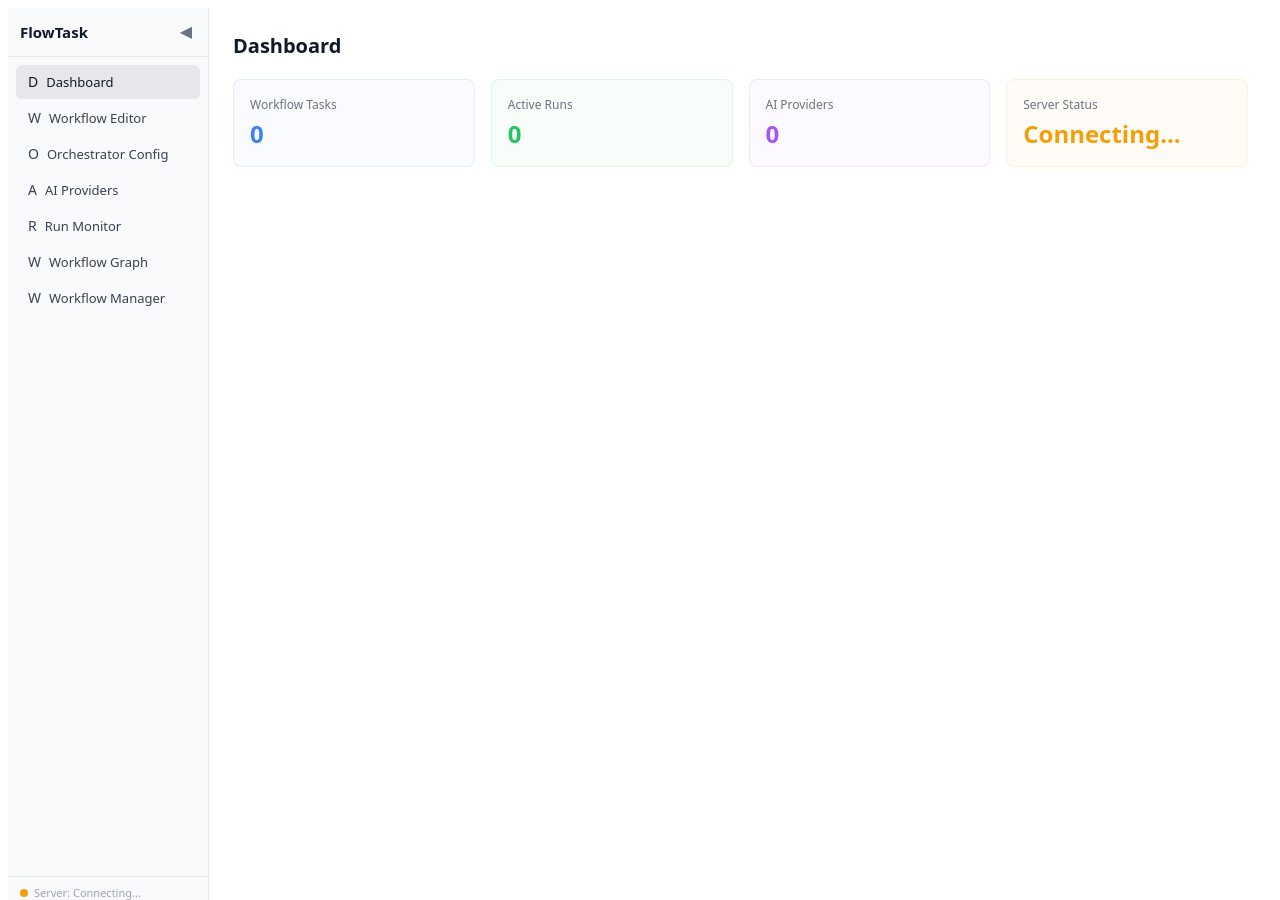
Scenario: Sidebar › expands collapsed sidebar when toggle is clicked
Click the button named "Collapse sidebar" at (186, 32), box [176,20,196,44]
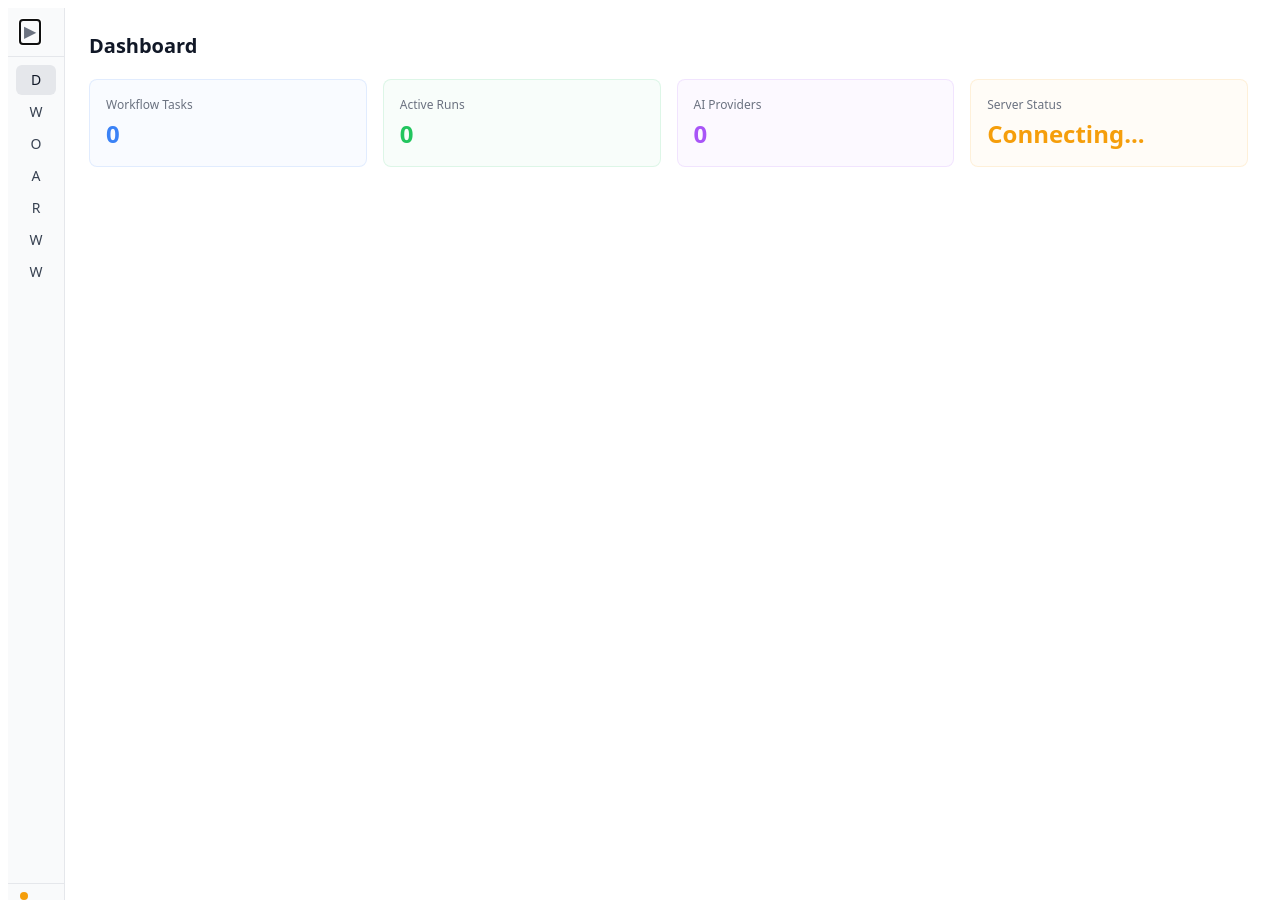
Now the button named "Expand sidebar" is shown
Click the button named "Expand sidebar" at (30, 32), box [20,20,40,44]
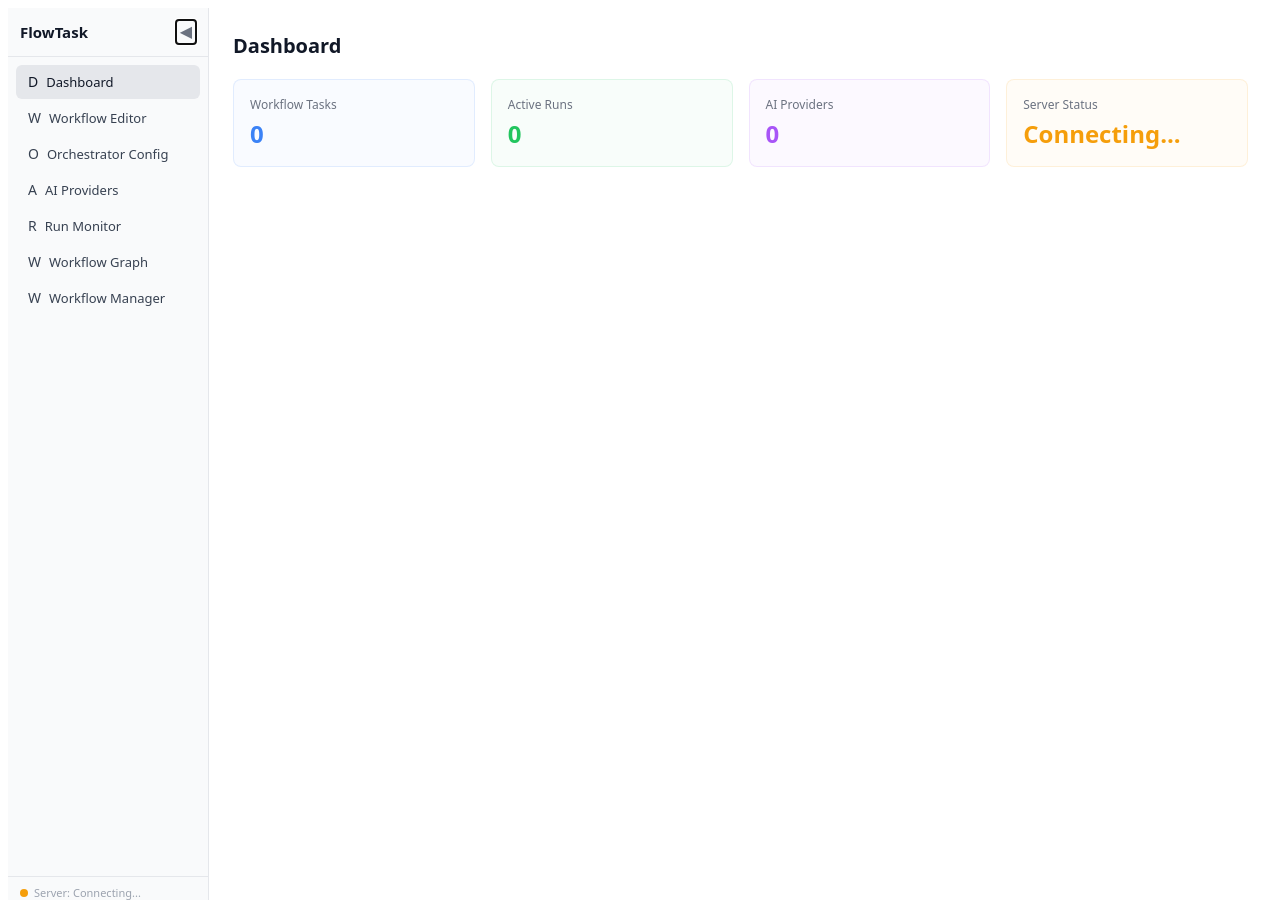
Now the button named "Collapse sidebar" is shown, box [176,20,196,44]
Now the text "FlowTask" is shown, box [20,22,88,42]
